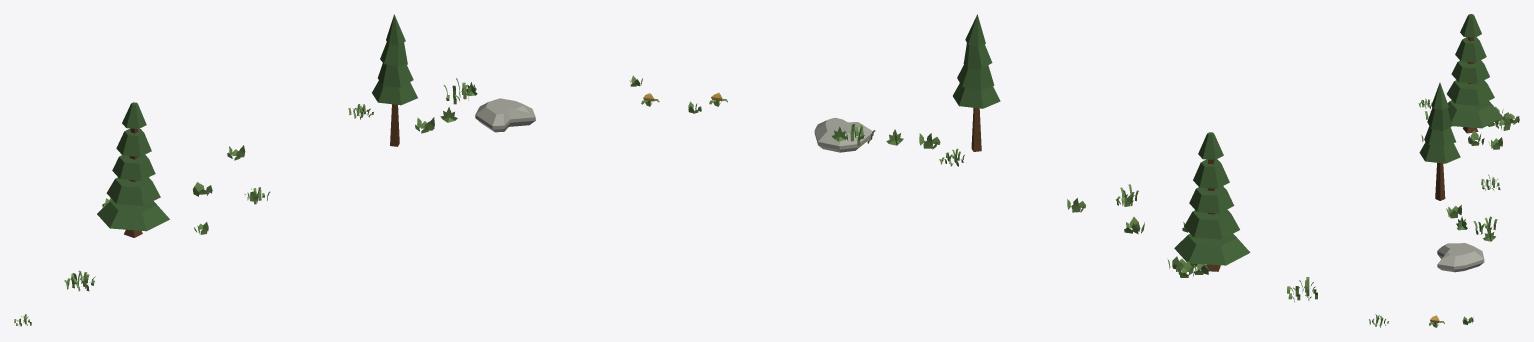
Rendered from cell_x2_z-3_render.gltf.
3 renders of one model, left to right at view 1: azimuth 30°, elevation 25°; view 2: azimuth 150°, elevation 25°; view 3: azimuth 270°, elevation 25°, orthographic. The views are drawn at different scales.
Parts seen in each view (by area): view 1: cell_x2_z-3; view 2: cell_x2_z-3; view 3: cell_x2_z-3.
Part boxes in pixels (x1,y1,x2,y2): cell_x2_z-3: (14, 14, 659, 326); cell_x2_z-3: (688, 14, 1388, 327); cell_x2_z-3: (1418, 14, 1519, 327).
Bounding box in the file's own units: 35.44 × 11.05 × 5.37.
